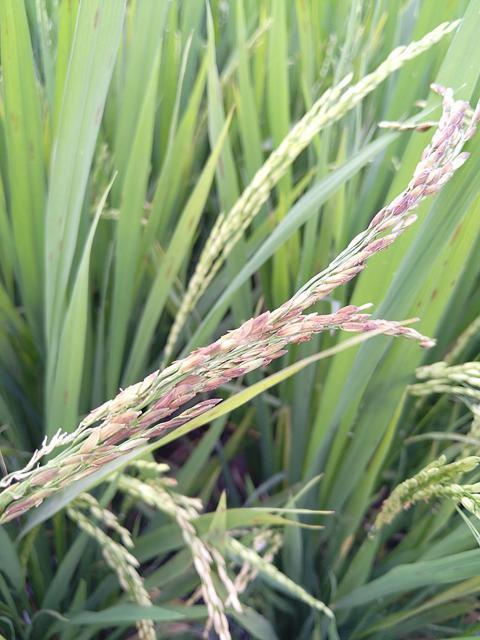Panicle Blight: (143, 399, 223, 439), (155, 377, 200, 410), (232, 315, 285, 342), (130, 408, 175, 435), (0, 497, 41, 525), (180, 344, 220, 371), (324, 262, 365, 288), (310, 312, 350, 331), (84, 453, 119, 474), (262, 340, 290, 365), (387, 192, 413, 216), (101, 426, 132, 446), (435, 118, 456, 147), (203, 377, 233, 395), (340, 321, 381, 333), (109, 410, 140, 425), (412, 165, 432, 188), (366, 238, 393, 255), (31, 469, 58, 485), (409, 185, 439, 197), (281, 305, 303, 321), (289, 332, 313, 346), (452, 106, 466, 129), (430, 141, 446, 160), (92, 444, 118, 454), (414, 123, 435, 134), (336, 305, 359, 315), (225, 366, 247, 375), (372, 210, 385, 225), (441, 161, 453, 175), (377, 222, 391, 229)
